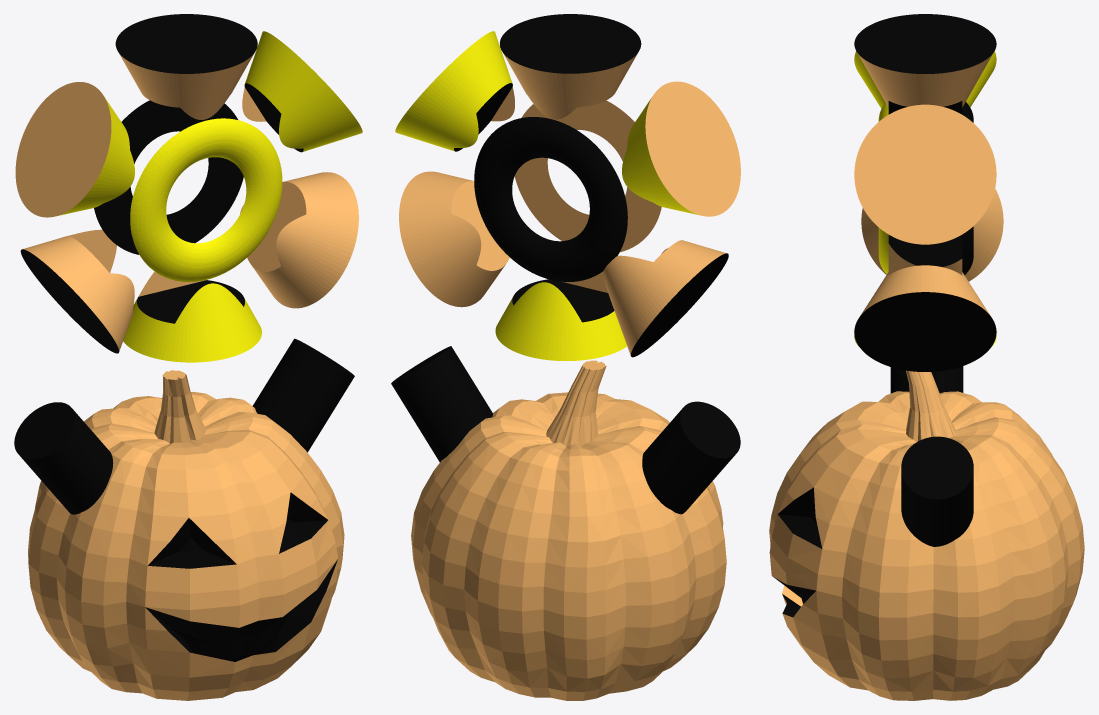
File: Jackolantern.fbx
The picture shows the model from 3 angles, left to right: view 1: azimuth 30°, elevation 25°; view 2: azimuth 150°, elevation 25°; view 3: azimuth 270°, elevation 25°; orthographic projection.
Parts seen in each view (by area): view 1: Origin; view 2: Origin; view 3: Origin.
Part boxes in pixels (left/top/right/bottom): Origin: left=14, top=14, right=362, bottom=700; Origin: left=391, top=14, right=740, bottom=700; Origin: left=769, top=14, right=1084, bottom=700.
Size of the model in its own units: 482 by 841 by 394.
